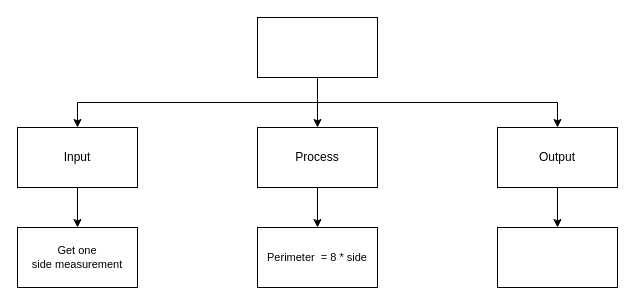
This 635x305 diagram has some shape labels left out. Each missing label, with the centre of its shape:
"Octagon Perimeter" belongs at point (317, 47).
"Show answer" belongs at point (557, 257).
